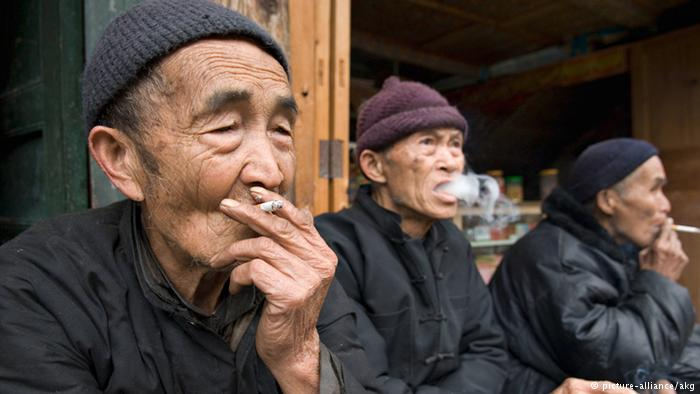cigarette: (244, 193, 286, 221), (660, 214, 700, 239)
